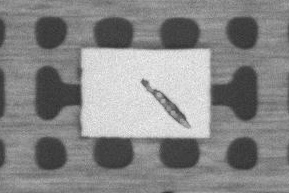DIE_INK: (202, 48, 289, 88)
